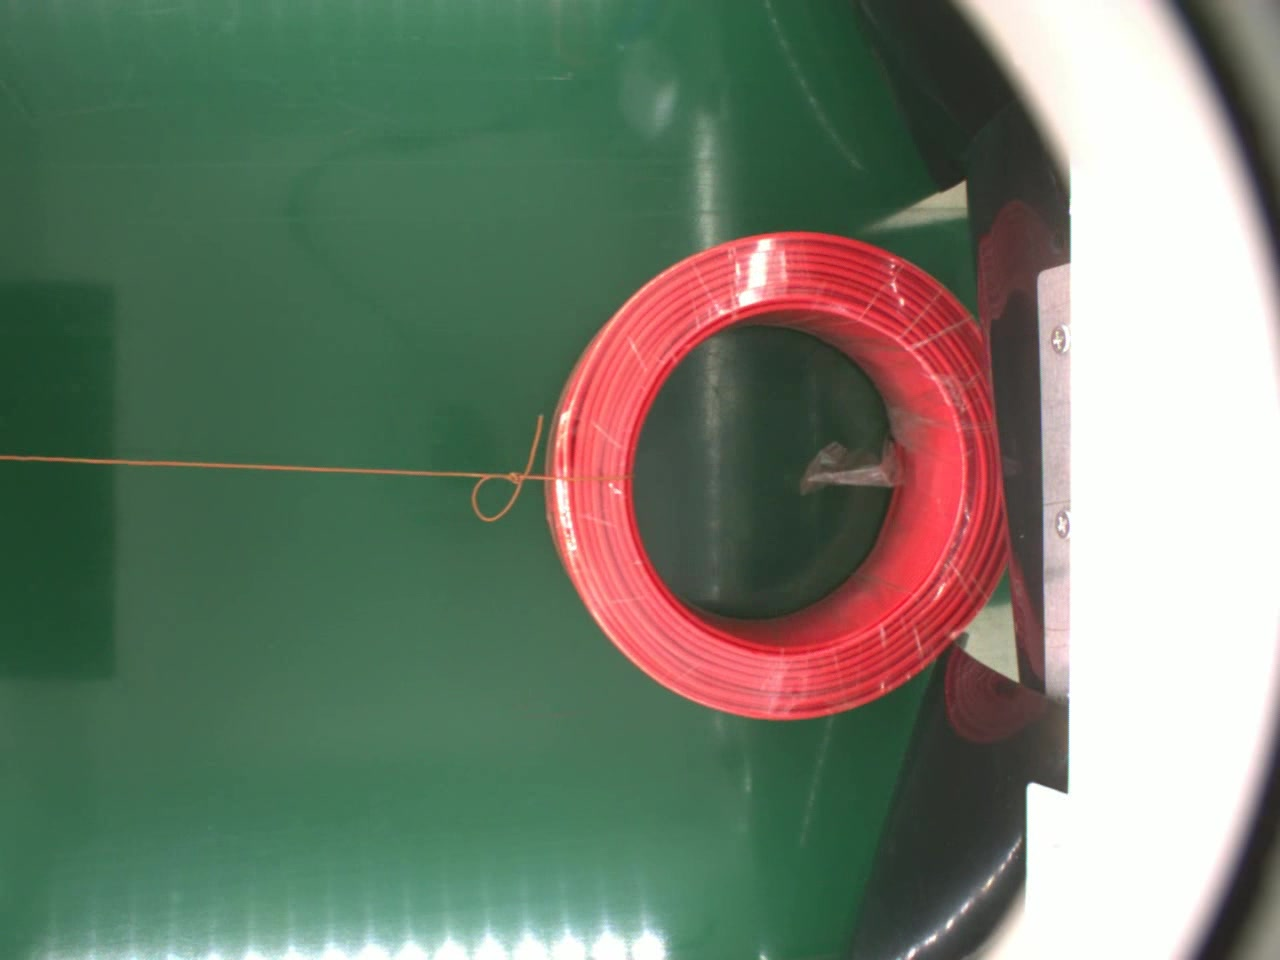red: (539, 230, 1006, 723)
